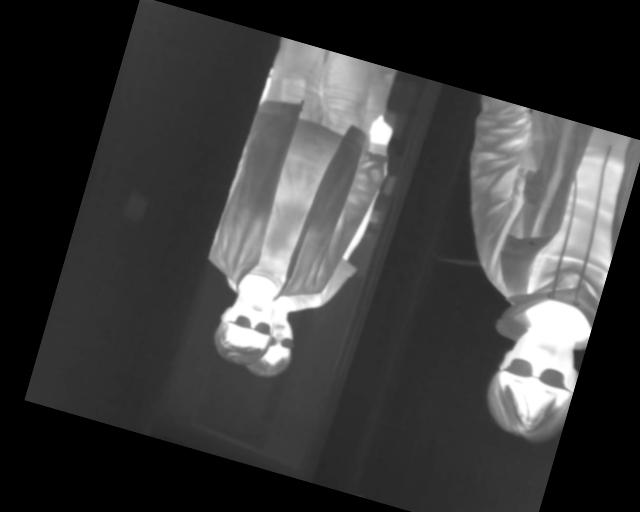face: (477, 310, 589, 451), (210, 283, 282, 371), (248, 310, 302, 383)
